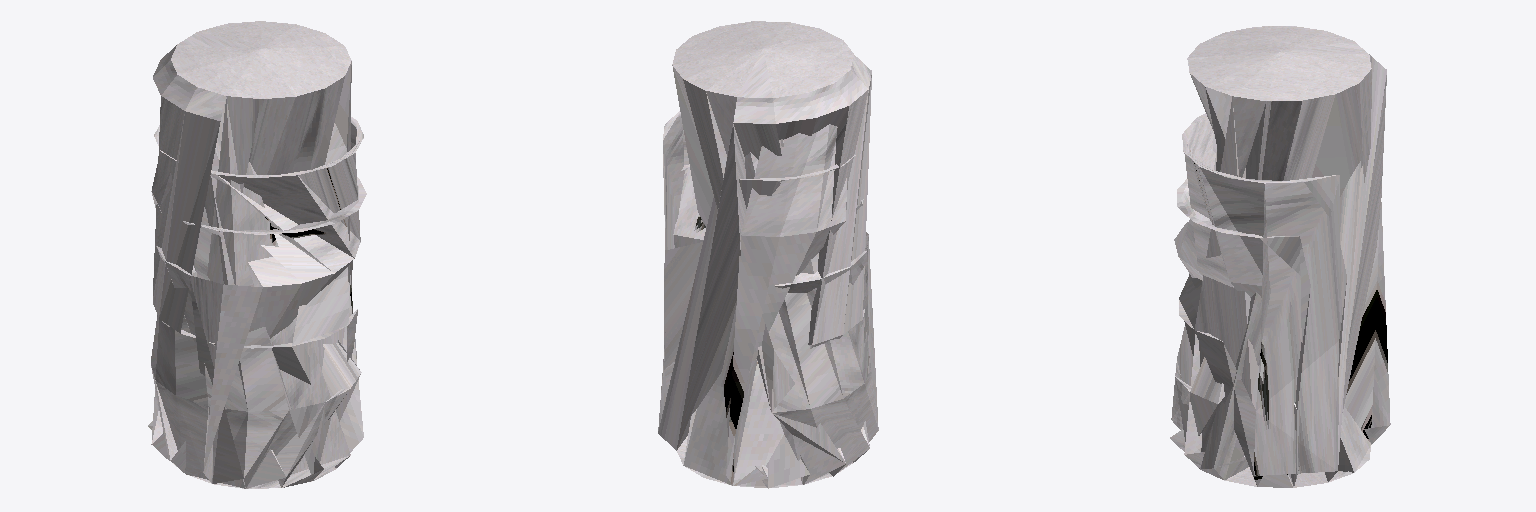
The picture shows the model from 3 angles: view 1: azimuth 30°, elevation 25°; view 2: azimuth 150°, elevation 25°; view 3: azimuth 270°, elevation 25°; orthographic projection.
Visible parts, largest first — view 1: DrawCall_0080, DrawCall_0083; view 2: DrawCall_0080, DrawCall_0083; view 3: DrawCall_0080, DrawCall_0083.
Part boxes in pixels (x1,y1,x2,y2): DrawCall_0080: (148,32,366,488); DrawCall_0083: (171,21,351,481); DrawCall_0080: (658,50,878,488); DrawCall_0083: (672,21,853,457); DrawCall_0080: (1170,41,1390,487); DrawCall_0083: (1187,26,1371,486).
Bounding box in the file's own units: 8.72 × 18.29 × 8.9.
2 materials, 2 textured.